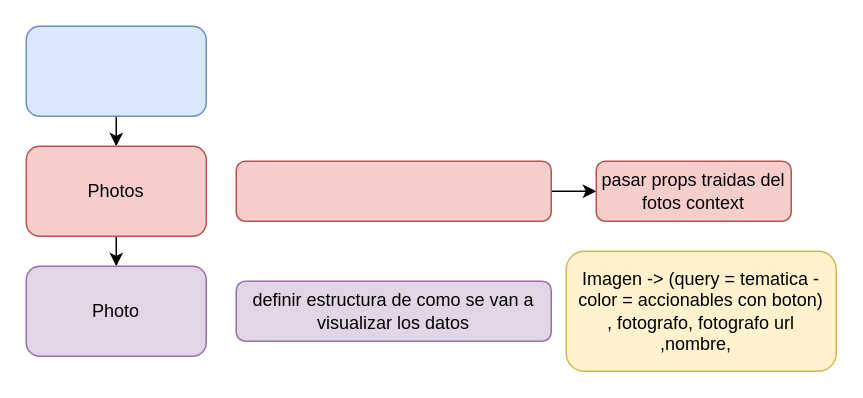
Some shapes in this 863 by 398 pixel diagram are drawn without their labels. Each missing label, with the centre of its shape:
"mostrar datos traidos en getColors()" goes at pixel 393 190.
"PICS VIEW" goes at pixel 115 70.
